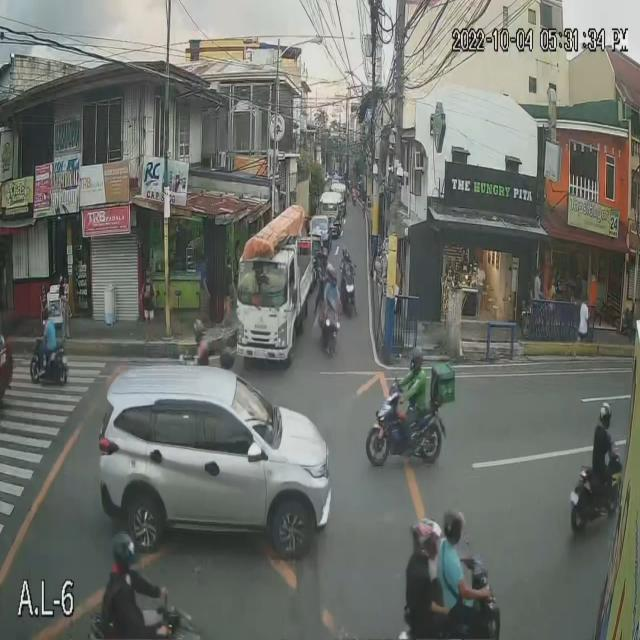full: (410, 520, 441, 560), (599, 402, 613, 429), (409, 346, 423, 372)
half: (444, 508, 465, 547)
